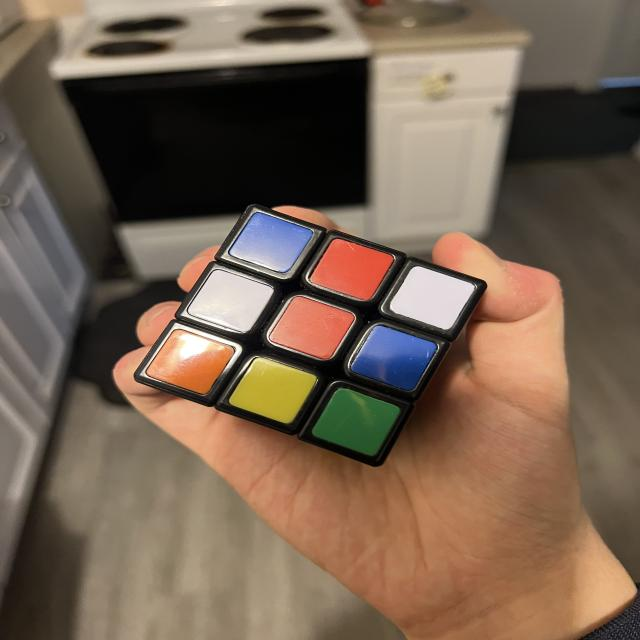blue: (346, 318, 440, 397), (228, 207, 314, 279)
center: (264, 288, 357, 366)
green: (309, 381, 402, 462)
orange: (144, 322, 236, 400)
red: (303, 231, 395, 308)
white: (181, 259, 278, 343), (387, 259, 477, 336)
yellow: (227, 351, 319, 430)
